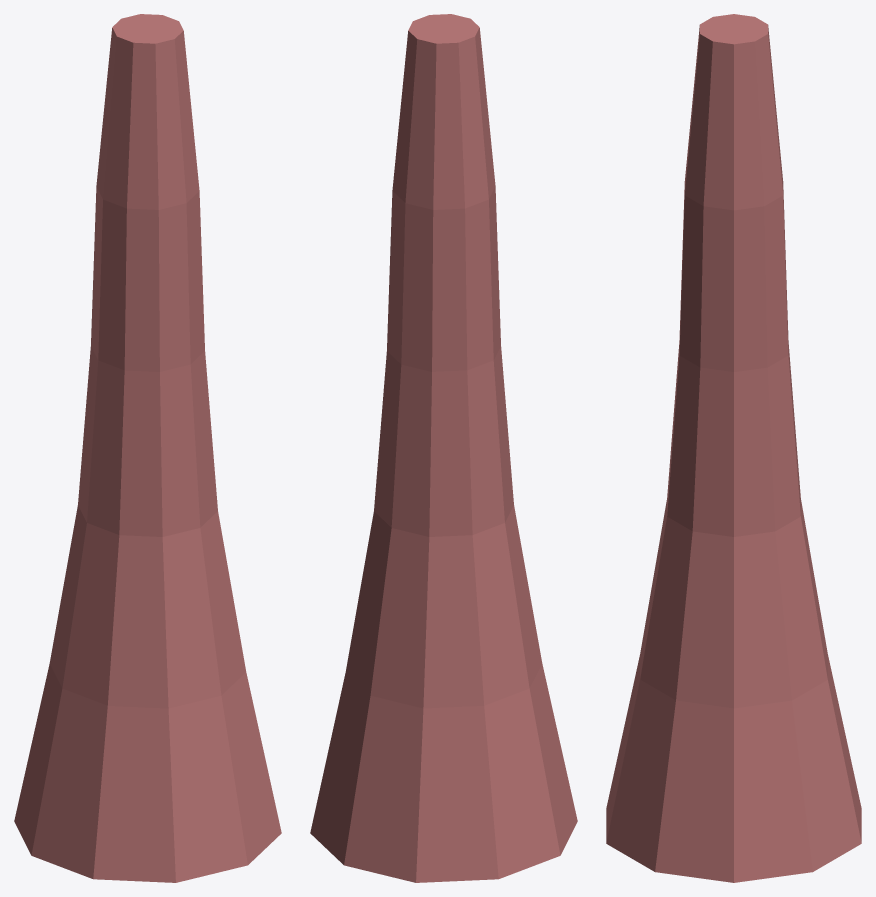
Rendered from moon.glb.
3 views of the same model, side by side, from view 1: azimuth 30°, elevation 25°; view 2: azimuth 150°, elevation 25°; view 3: azimuth 270°, elevation 25° (orthographic).
Visible parts, largest first — view 1: x3ds_Cone01; view 2: x3ds_Cone01; view 3: x3ds_Cone01.
Part boxes in pixels (left/top/right/bottom): x3ds_Cone01: left=14, top=14, right=281, bottom=882; x3ds_Cone01: left=310, top=14, right=577, bottom=882; x3ds_Cone01: left=606, top=14, right=861, bottom=882.
Bounding box in the file's own units: 36.65 × 120 × 34.86.
